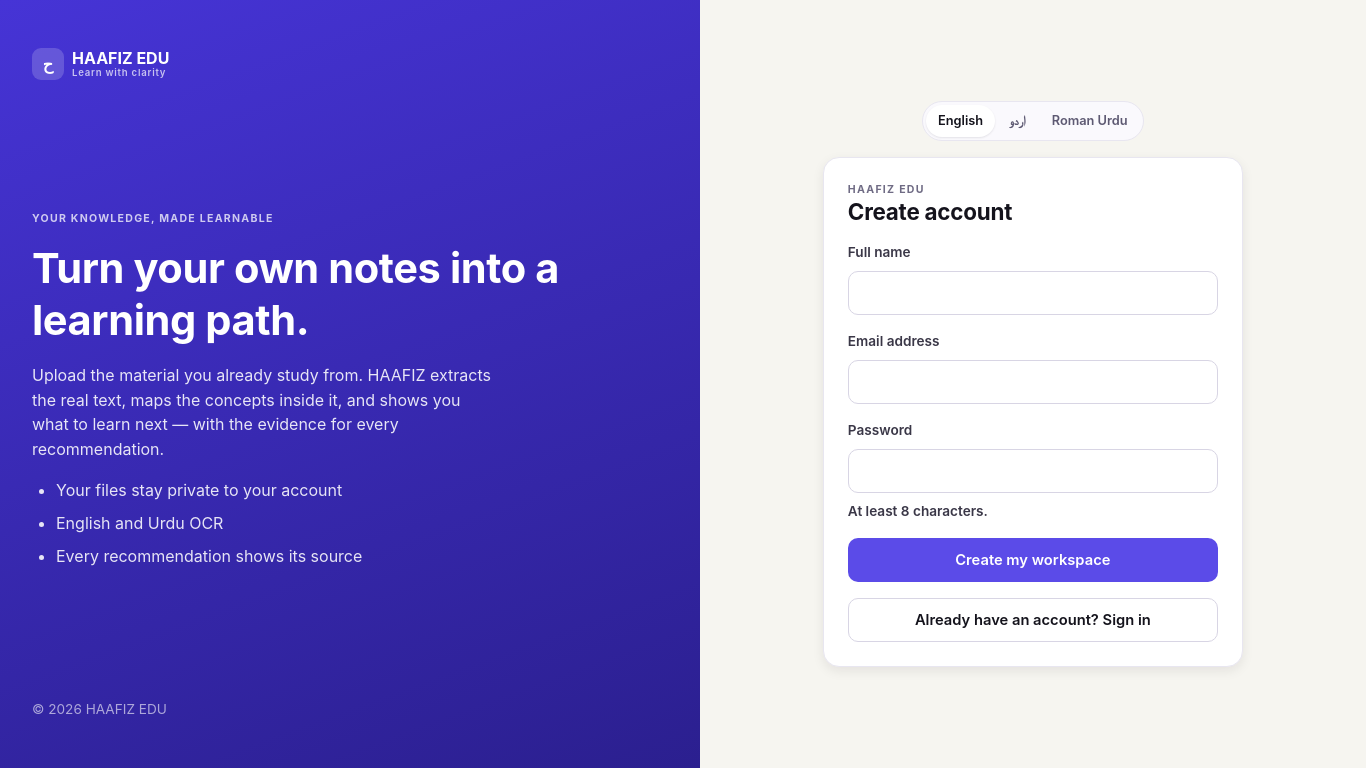
Test: AuthPage — register › surfaces a duplicate-email conflict from the server
The image size is (1366, 768).
In the field labelled "Full name": (1033, 293) [848,271,1218,315], type "Ayesha Khan"
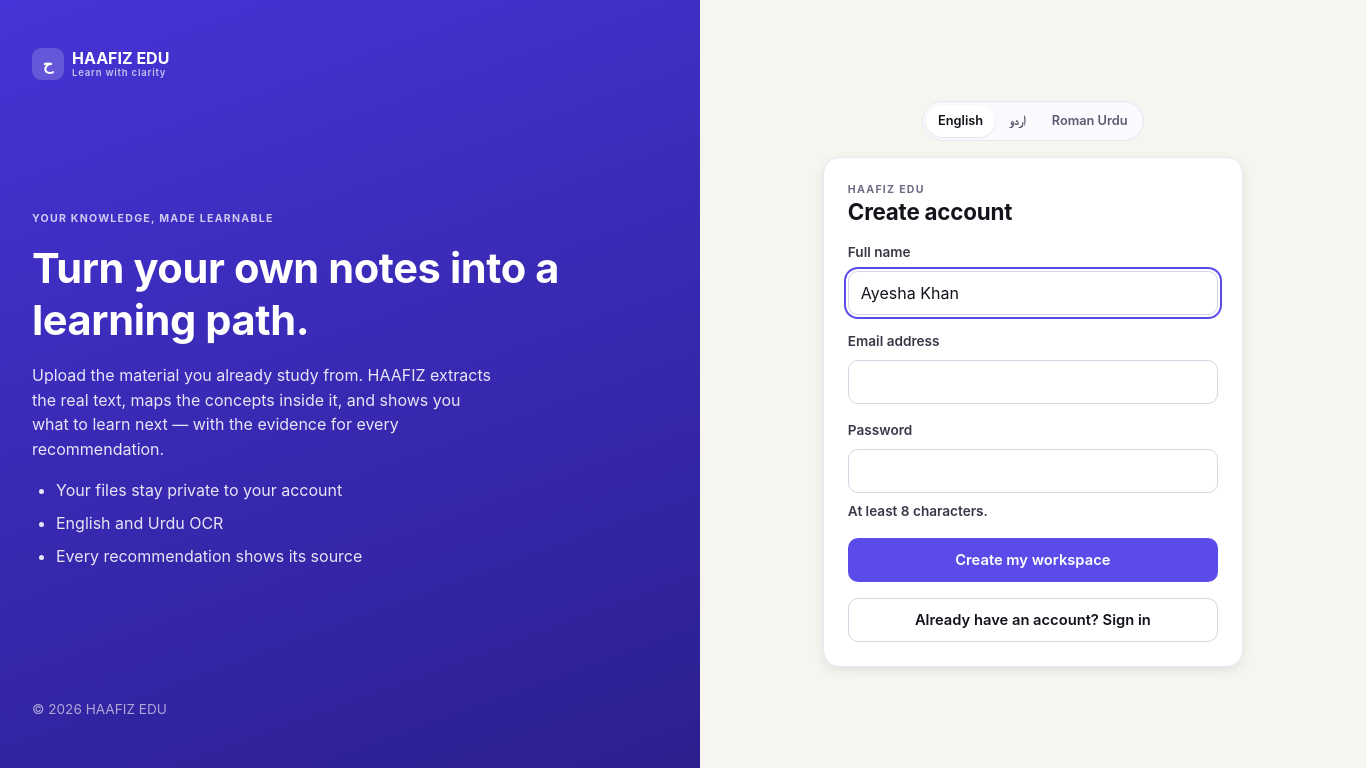
In the field labelled "Email address": (1033, 382) [848,360,1218,404], type "taken@example.com"
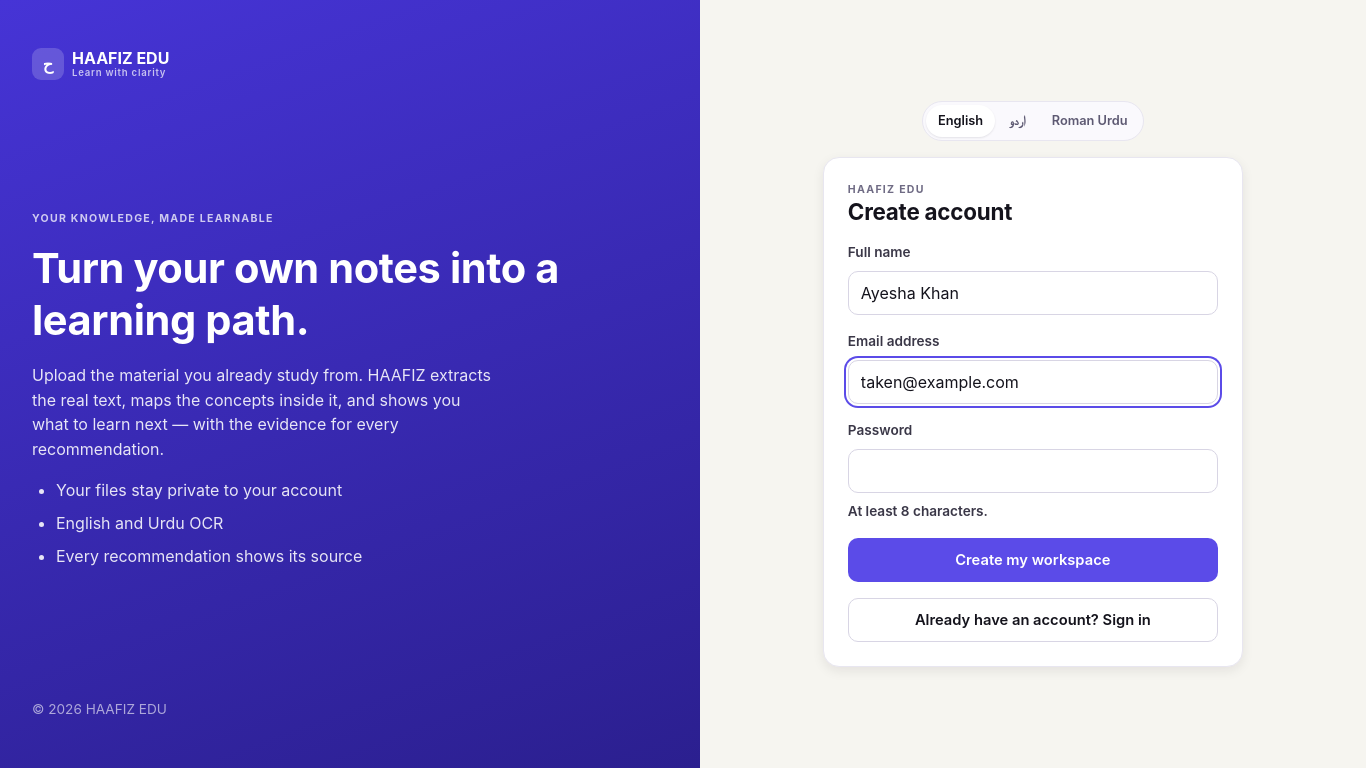
In the password field labelled "Password At least 8 characters.": (1033, 471) [848,449,1218,493], type "password123"
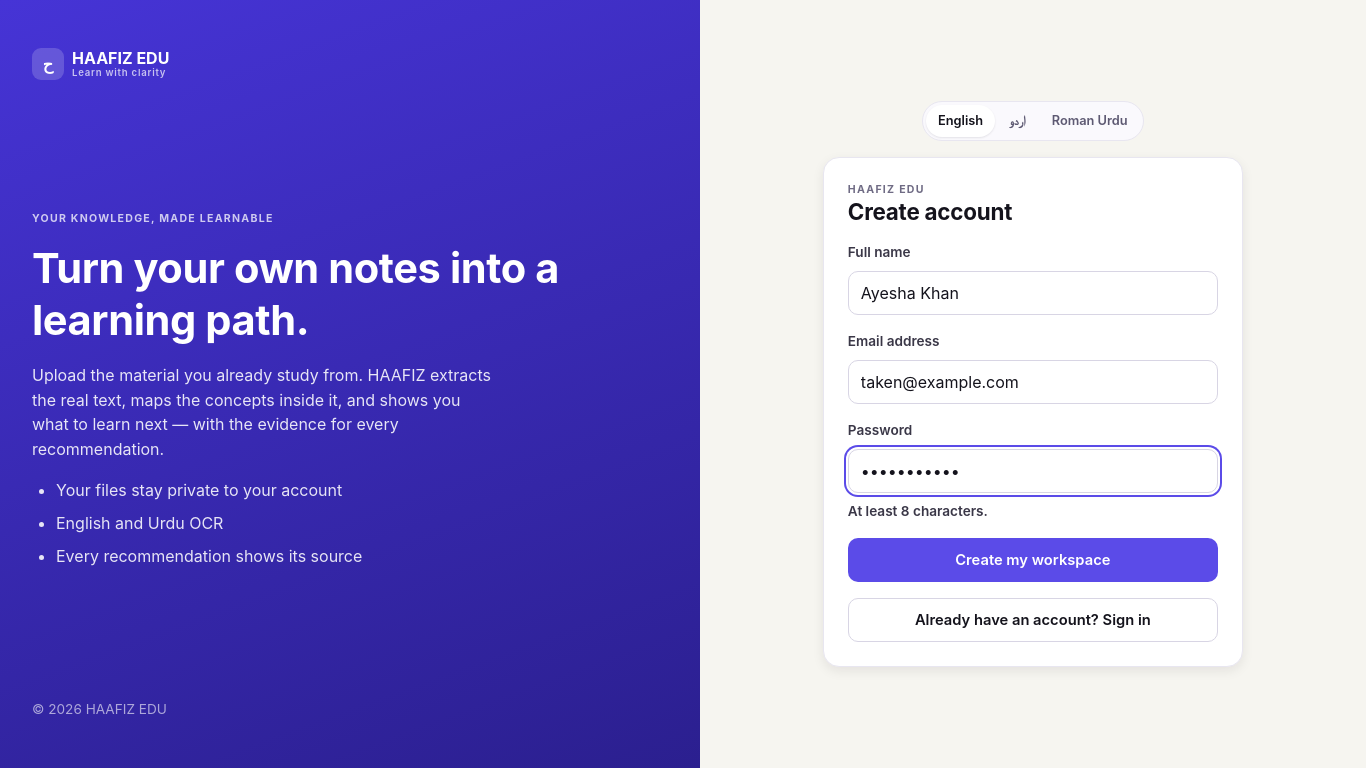
Click the button "Create my workspace": (1033, 560) [848,538,1218,582]
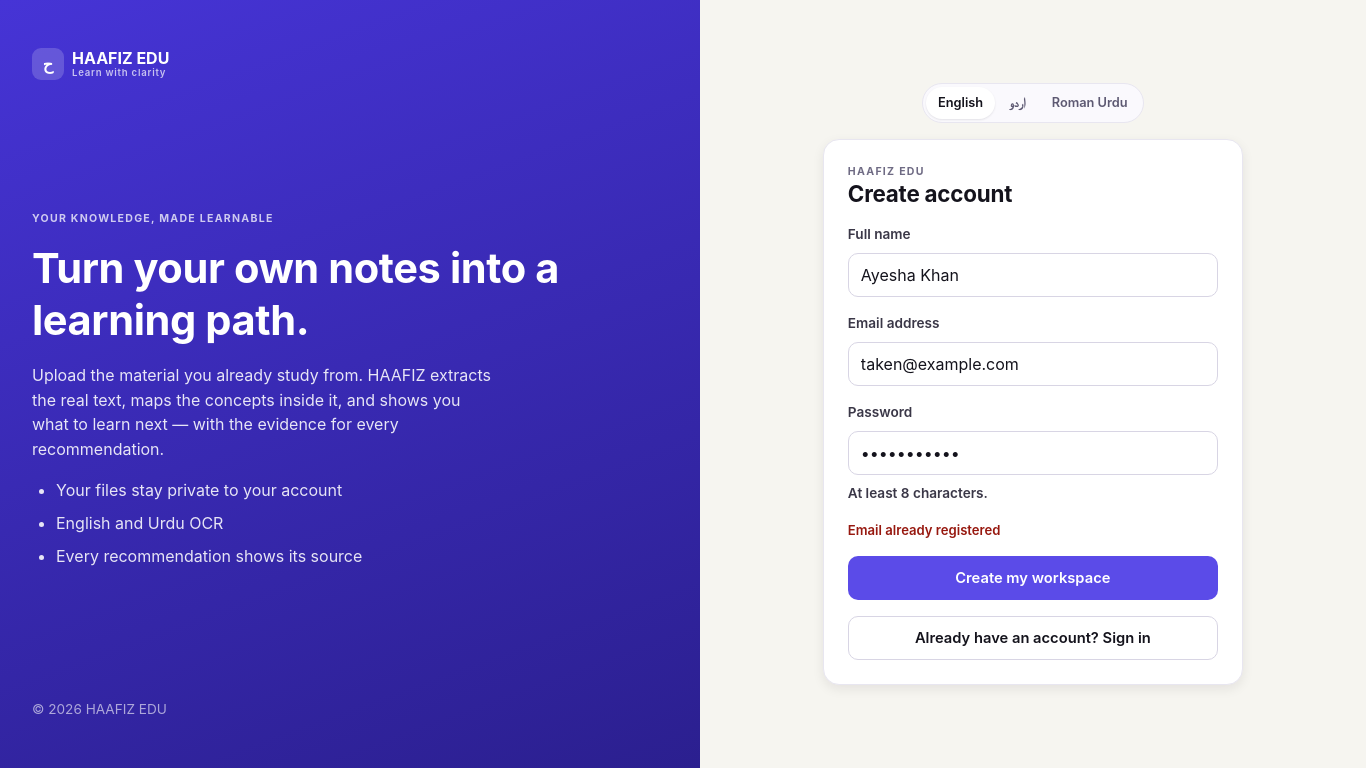
Expected: the text "Email already registered" is shown, [848,522,1000,538]
